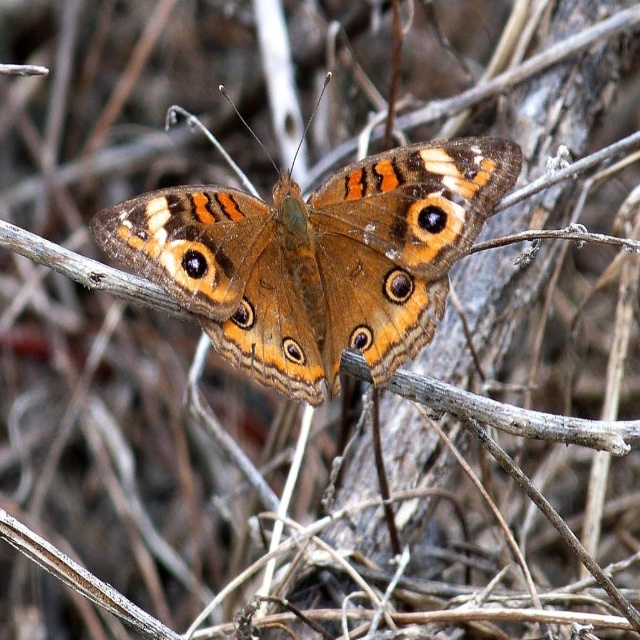Butterfly: (86, 74, 553, 419)
